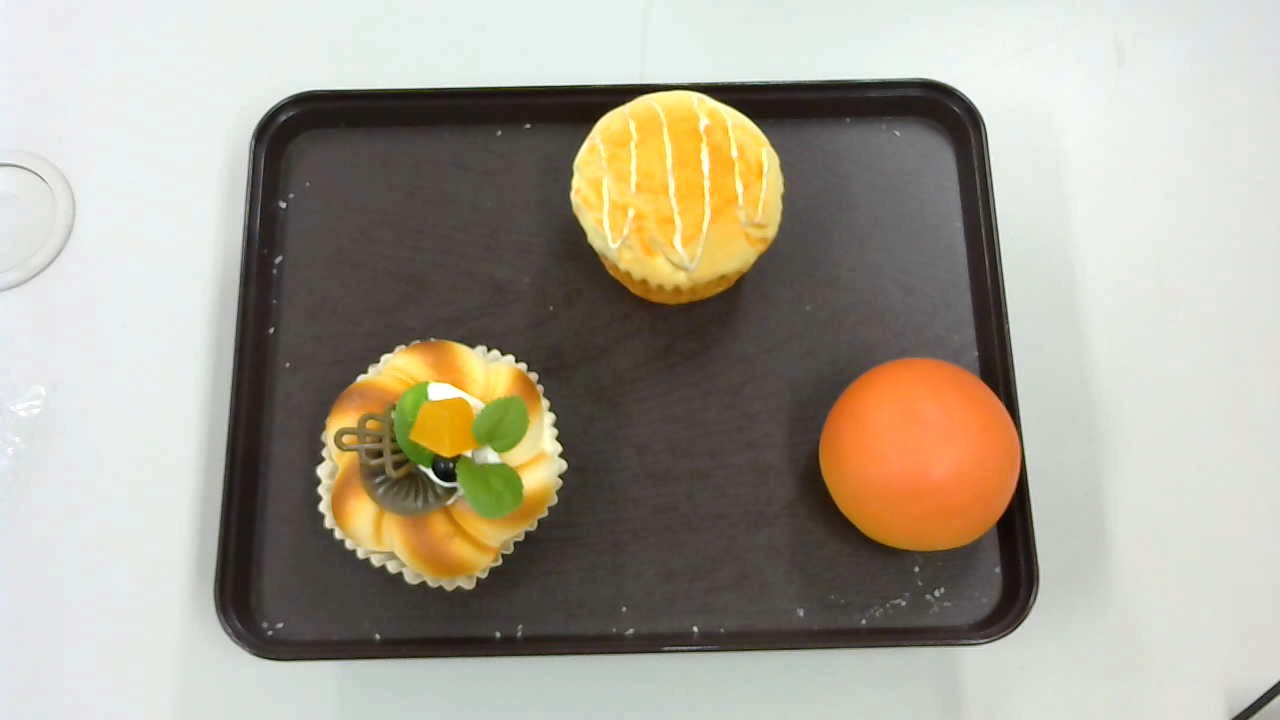bun: (818, 356, 1023, 554)
cupcake: (568, 89, 786, 306)
fruit tart: (315, 336, 567, 591)
